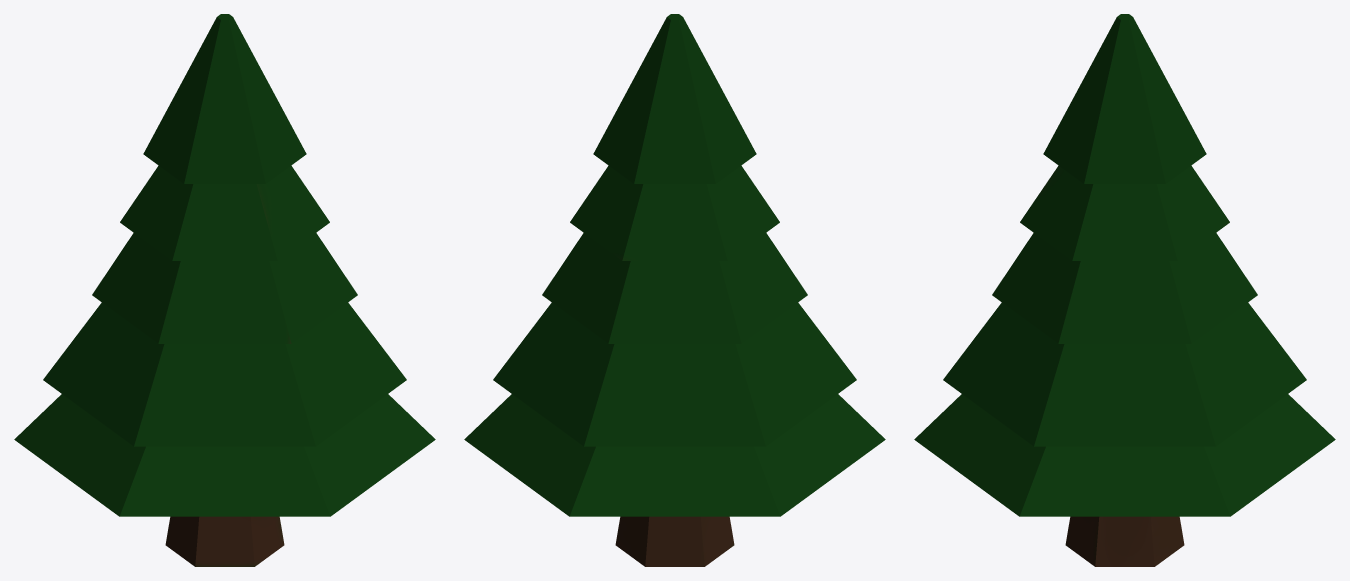
Rendered from evergreen.dae.
3 views of the same model, side by side, from view 1: azimuth 30°, elevation 25°; view 2: azimuth 150°, elevation 25°; view 3: azimuth 270°, elevation 25° (orthographic).
Parts seen in each view (by area): view 1: evergreen; view 2: evergreen; view 3: evergreen.
Part boxes in pixels (x1=…): evergreen: x1=14, y1=14, x2=435, y2=566; evergreen: x1=464, y1=14, x2=885, y2=566; evergreen: x1=914, y1=14, x2=1335, y2=566.
Size of what is drawn, in the model's own units: 3.99 by 4.61 by 6.37.
